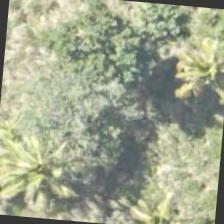Kelapa_Sawit: (0, 125, 82, 222), (145, 28, 223, 125), (108, 171, 203, 223)
